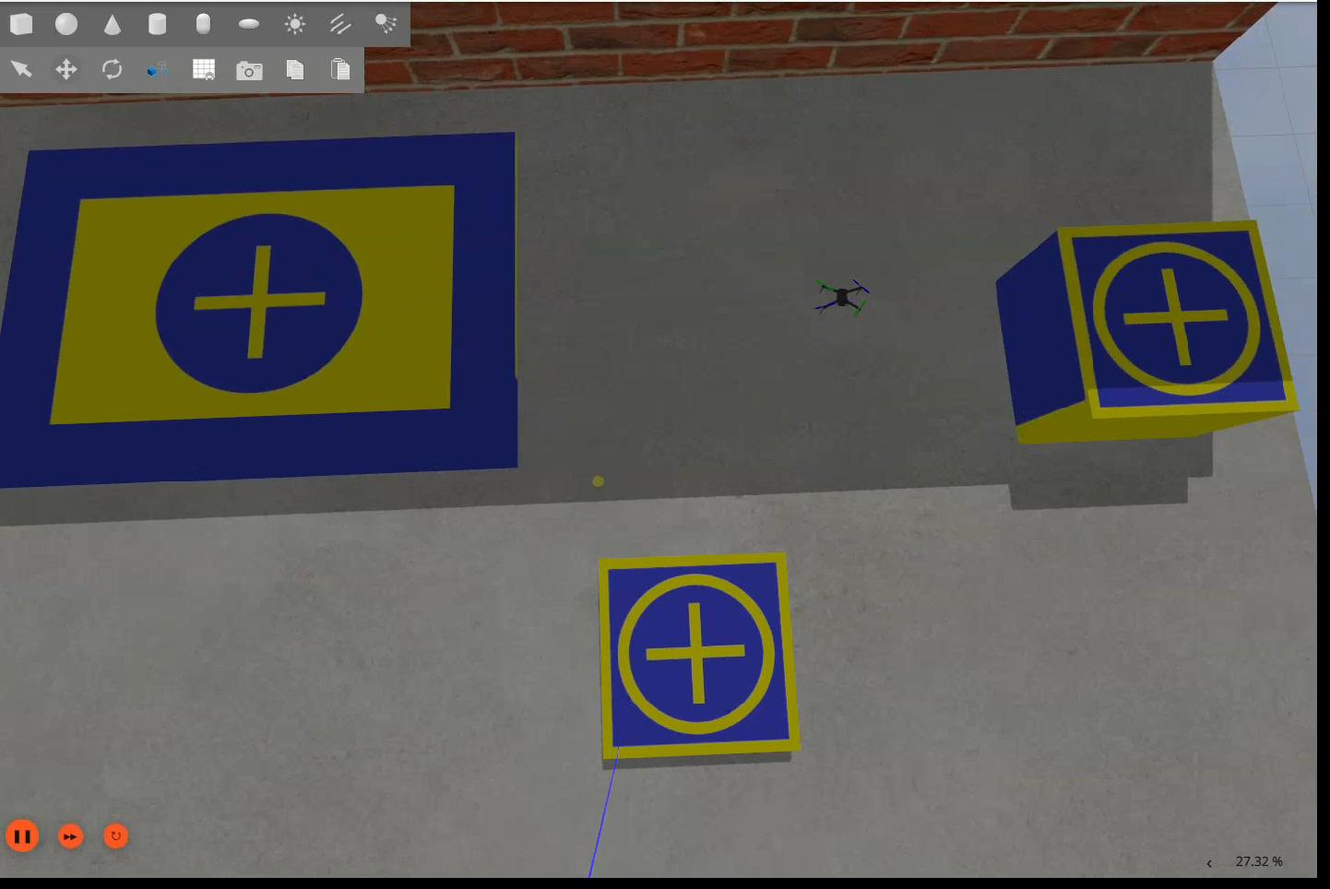large_base: (1, 130, 523, 475)
small_base: (1056, 222, 1300, 423), (600, 552, 800, 763)
